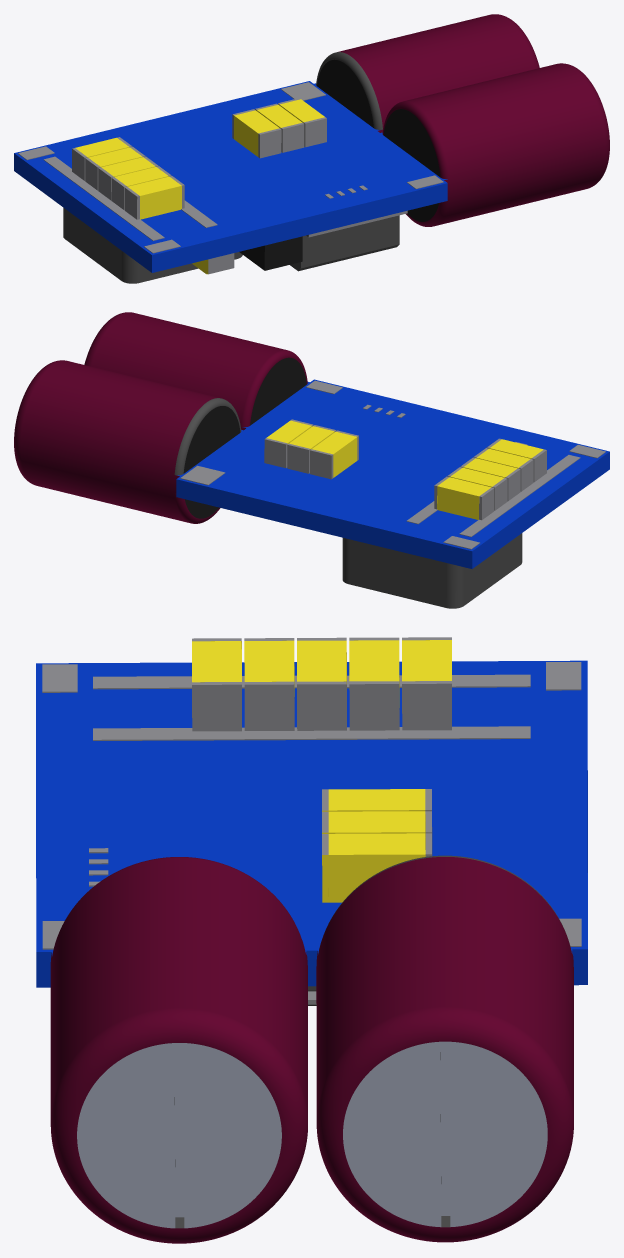
Rendered from buck.glb.
3 renders of one model, top to bottom at view 1: azimuth 30°, elevation 25°; view 2: azimuth 150°, elevation 25°; view 3: azimuth 270°, elevation 25°, orthographic. The views are drawn at different scales.
Visible parts, largest first — view 1: UBEC 2 v1; view 2: UBEC 2 v1; view 3: UBEC 2 v1.
Boxes of the visible parts, <box> form: UBEC 2 v1: <box>14,14,609,283</box>; UBEC 2 v1: <box>14,312,609,608</box>; UBEC 2 v1: <box>36,637,587,1243</box>.
Bounding box in the file's own units: 111 × 29.01 × 57.08.
